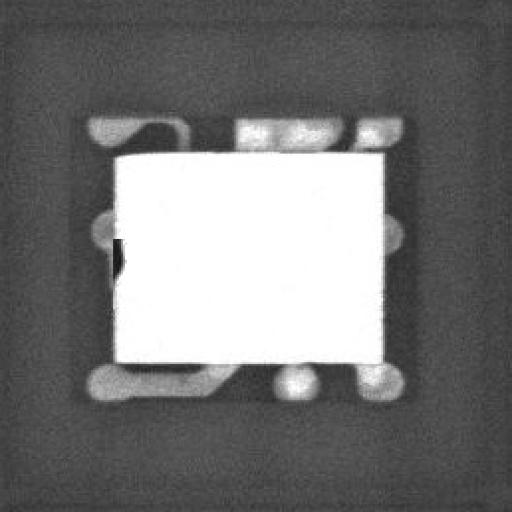DIE_BROKEN: (105, 230, 125, 282)
